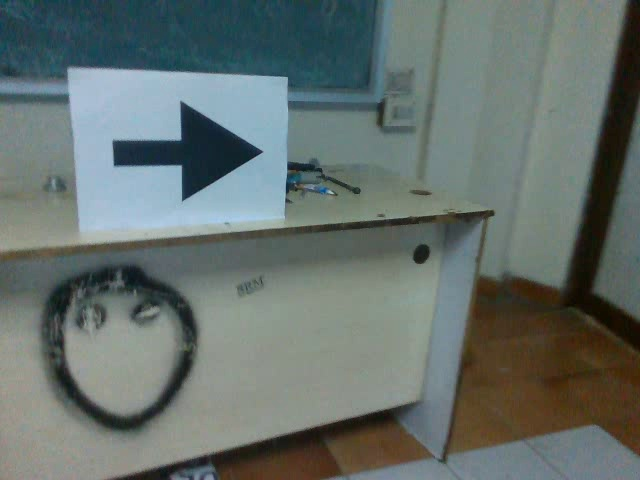Right: (104, 90, 269, 206)
